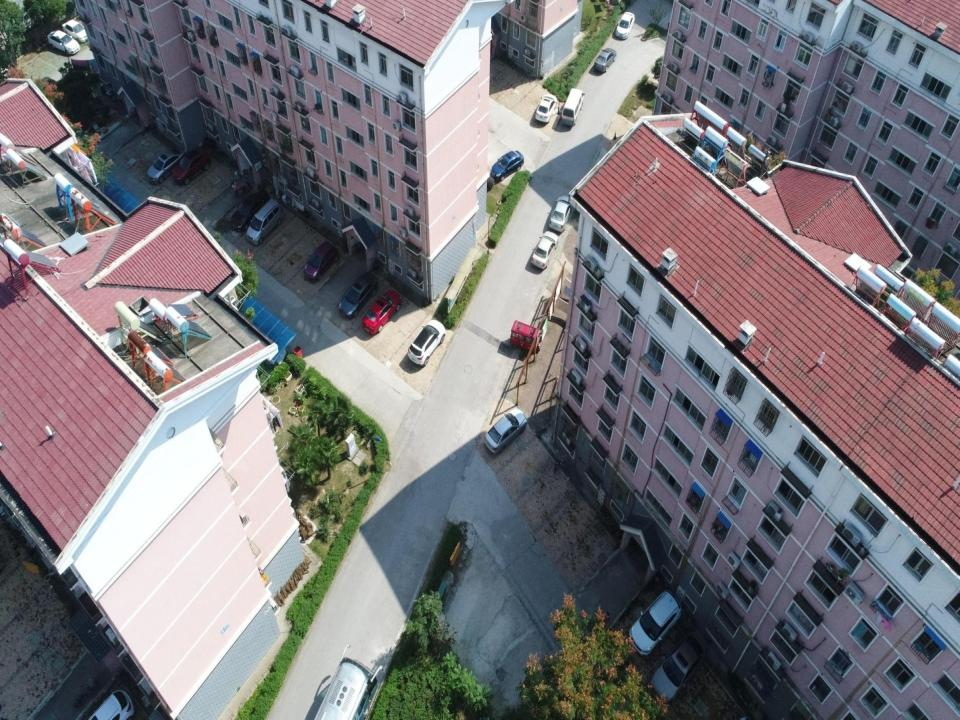car: (651, 629, 707, 703), (310, 658, 377, 719), (629, 588, 682, 656), (485, 407, 527, 454), (362, 289, 402, 335), (407, 319, 446, 366), (339, 271, 378, 318), (230, 191, 270, 231), (171, 147, 210, 185), (87, 689, 135, 719), (147, 146, 184, 184), (303, 241, 338, 281), (531, 231, 558, 270), (491, 150, 524, 180), (548, 195, 572, 232), (47, 30, 80, 55), (62, 19, 90, 43), (536, 93, 557, 123), (594, 48, 617, 72), (616, 12, 634, 40)
van: (246, 198, 284, 245), (561, 88, 585, 126)
